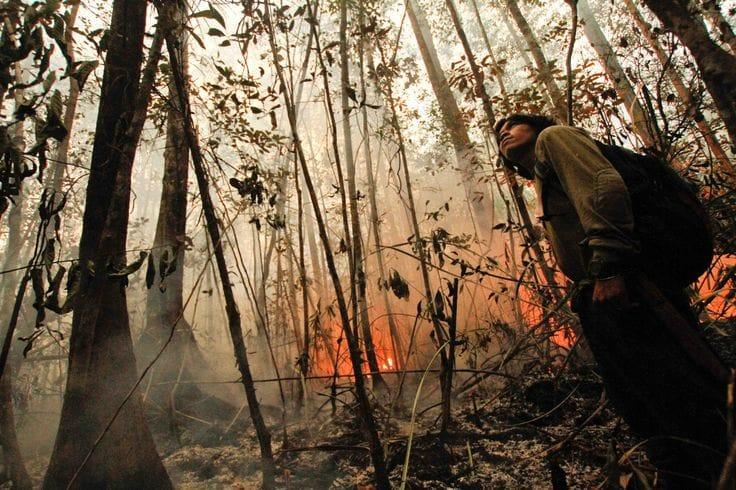Deteksi-Objek-Citra-Berasap: (0, 48, 551, 447)
Manusia: (493, 112, 736, 489)
Titik Api: (291, 282, 406, 378), (519, 249, 575, 354), (708, 241, 735, 321)
Vegetasi: (0, 0, 491, 489), (399, 0, 736, 266)
